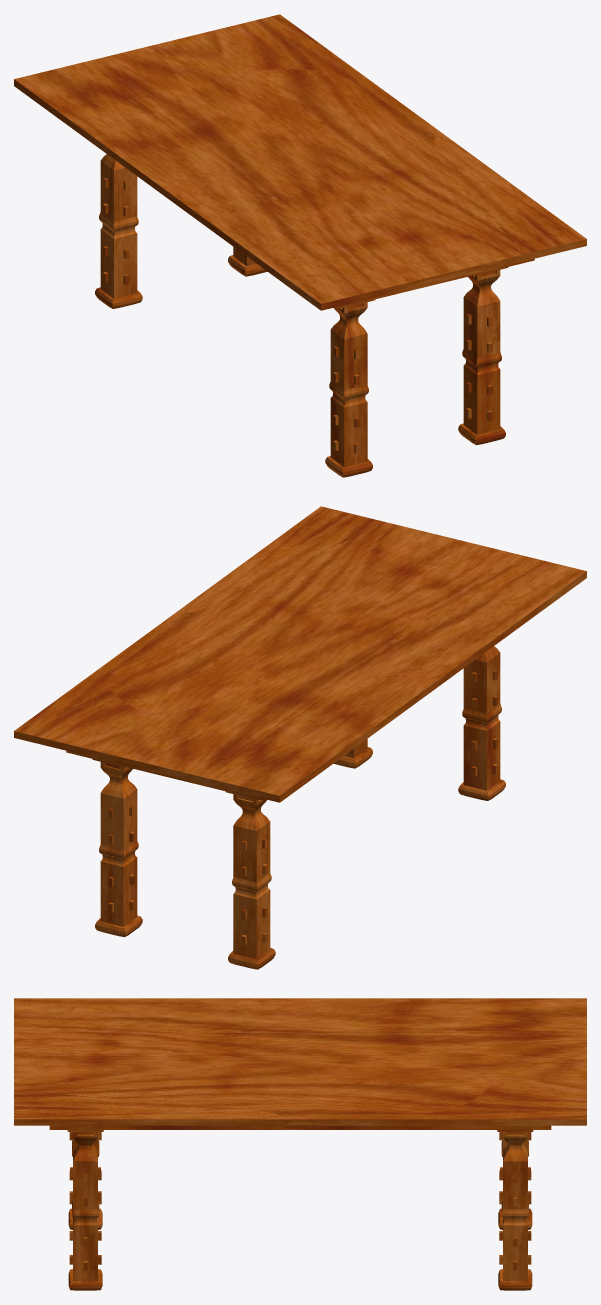
Rendered from tableUn.fbx.
3 renders of one model, top to bottom at view 1: azimuth 30°, elevation 25°; view 2: azimuth 150°, elevation 25°; view 3: azimuth 270°, elevation 25°, orthographic. The views are drawn at different scales.
Parts seen in each view (by area): view 1: Table; view 2: Table; view 3: Table.
Part boxes in pixels (bbox=[...]): Table: bbox=[14, 14, 586, 477]; Table: bbox=[14, 506, 586, 969]; Table: bbox=[14, 998, 586, 1290].
Bounding box in the file's own units: 100 × 75 × 200.
